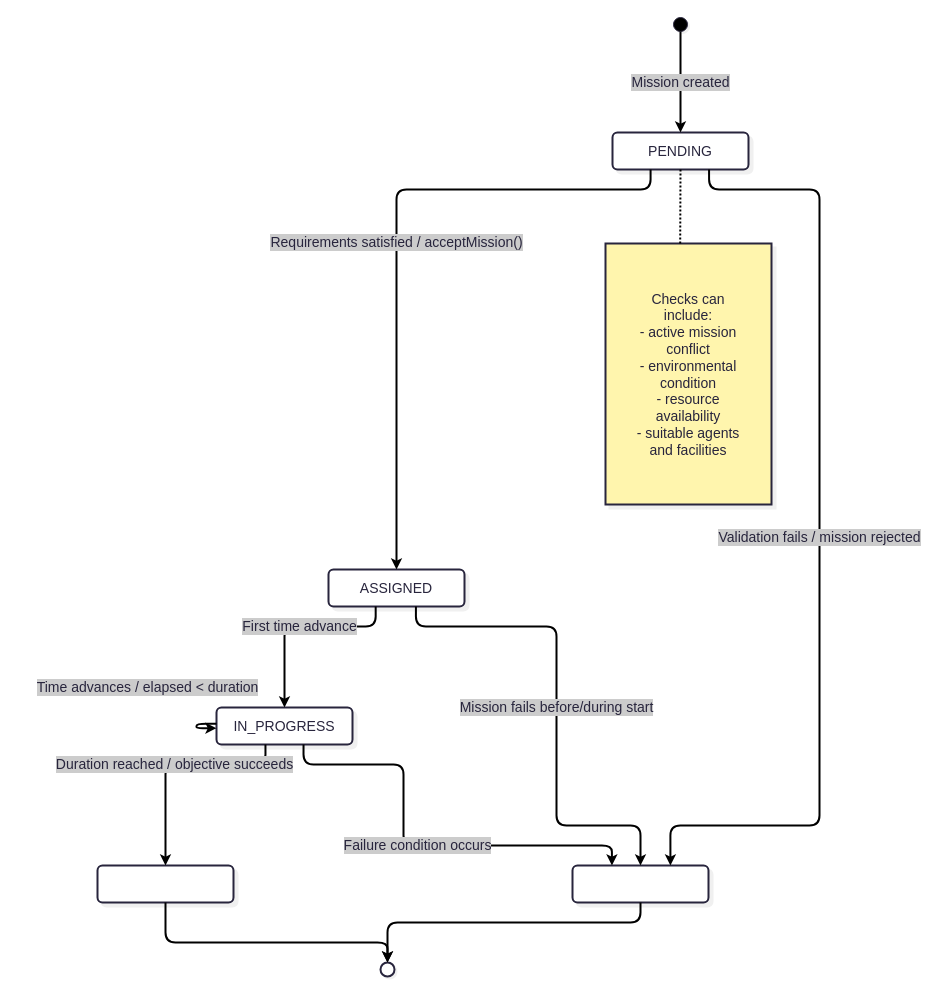
Some shapes in this 937 by 997 pixel diagram are drawn without their labels. Each missing label, with the centre of its shape:
COMPLETED: point 167,885
FAILED: point 642,885
